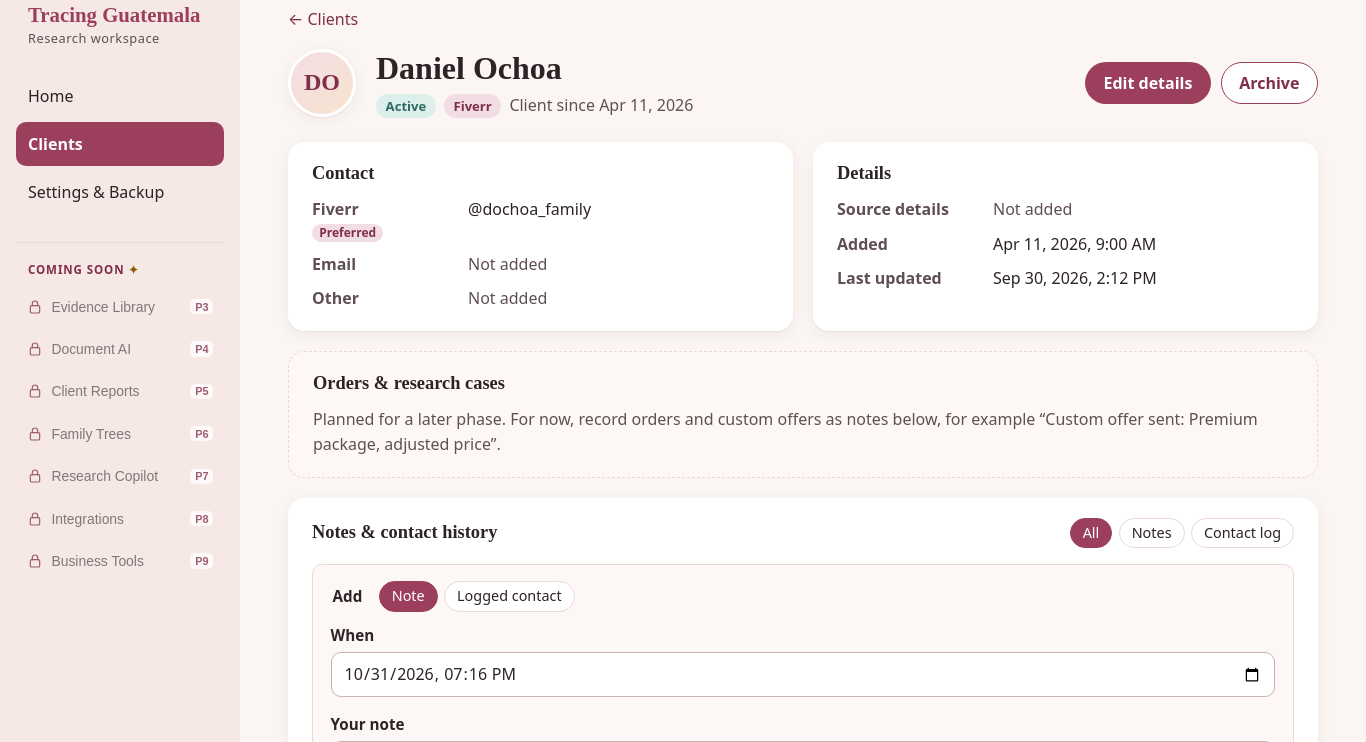
Test case: notes and contact history › shows archive and restore as system entries that cannot be edited, and is read-only while archived
The image size is (1366, 742).
Expected: the heading "Daniel Ochoa" is shown, [376, 50, 562, 86]
Click the button "Archive": {"x": 1269, "y": 83} [1221, 62, 1318, 104]
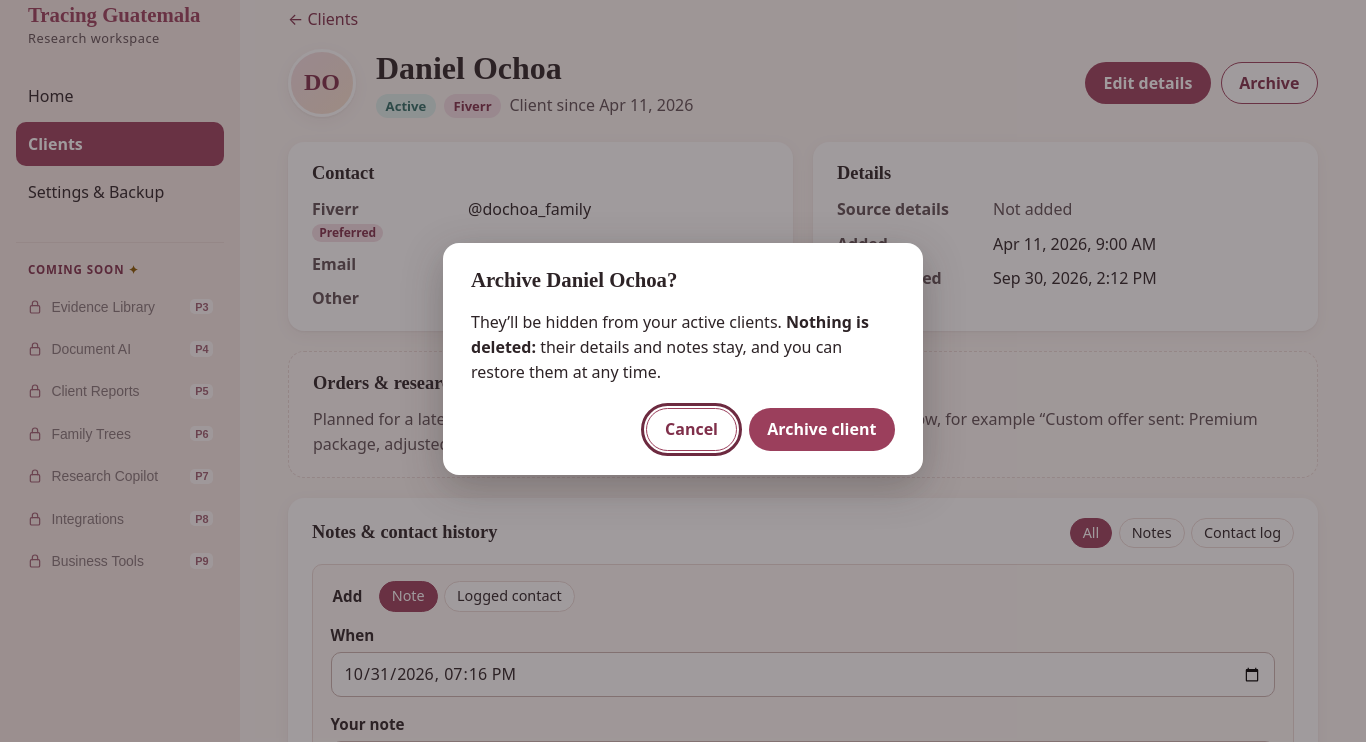
Click the button "Archive client": {"x": 822, "y": 430} [749, 408, 895, 451]
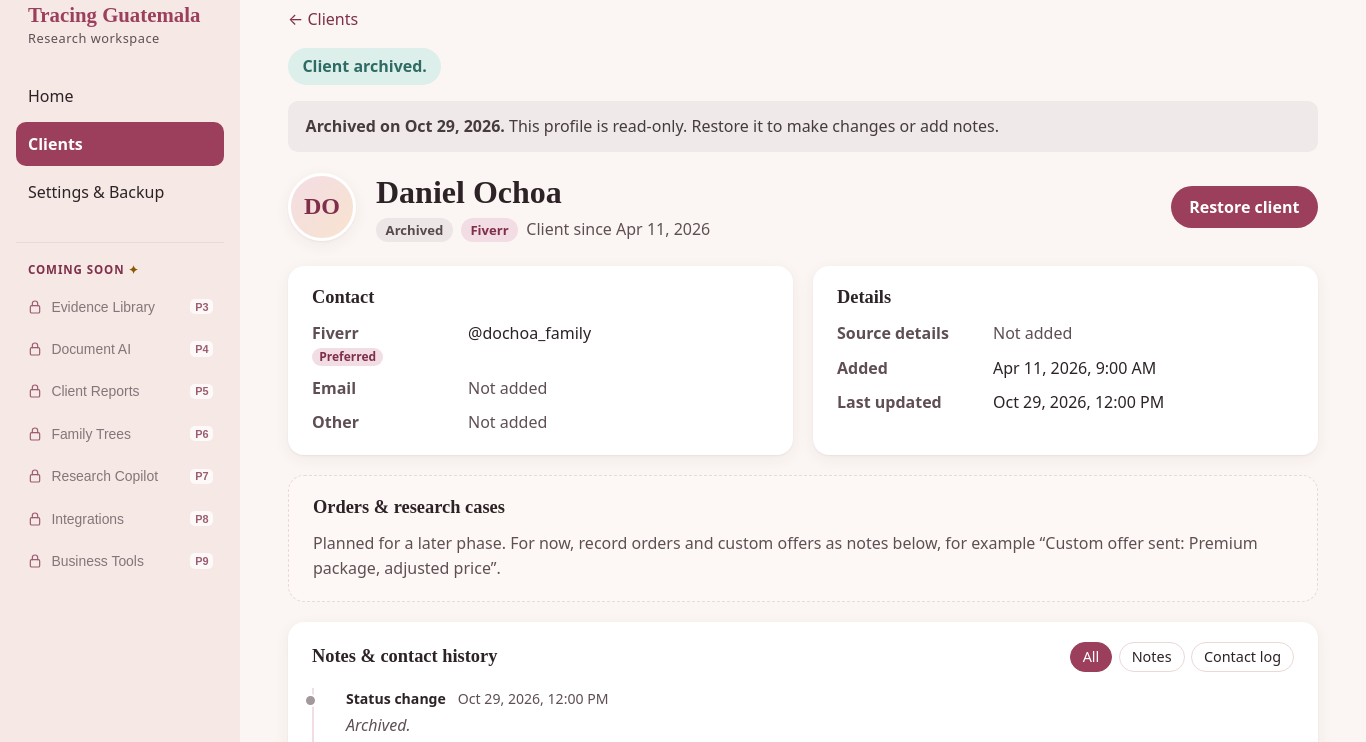
Expected: the text "Archived." is shown, [346, 714, 410, 736]
Expected: the label labelled "Your note" is gone
Expected: the link "Edit" is gone
Click the button "Restore client": {"x": 1244, "y": 207} [1170, 186, 1318, 228]
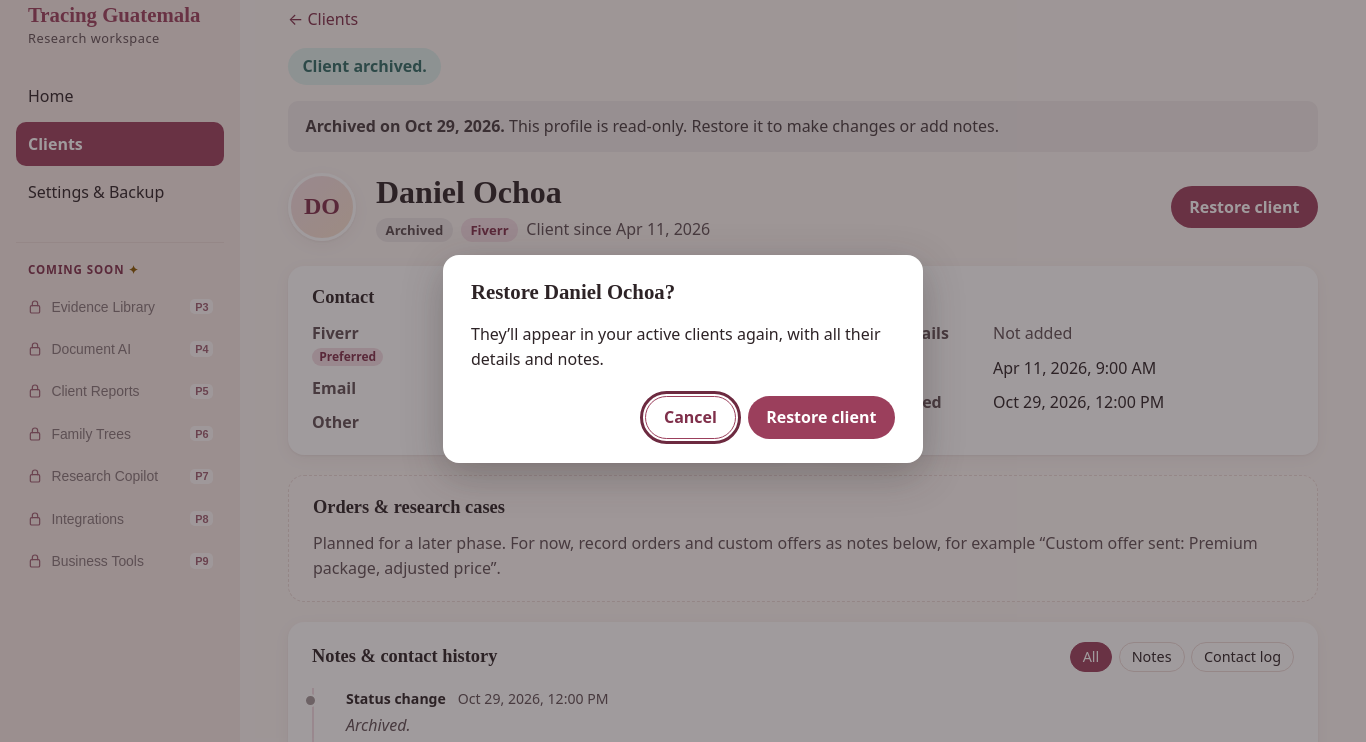
Click the button "Restore client": {"x": 821, "y": 417} [748, 396, 895, 439]
(page scrolled)
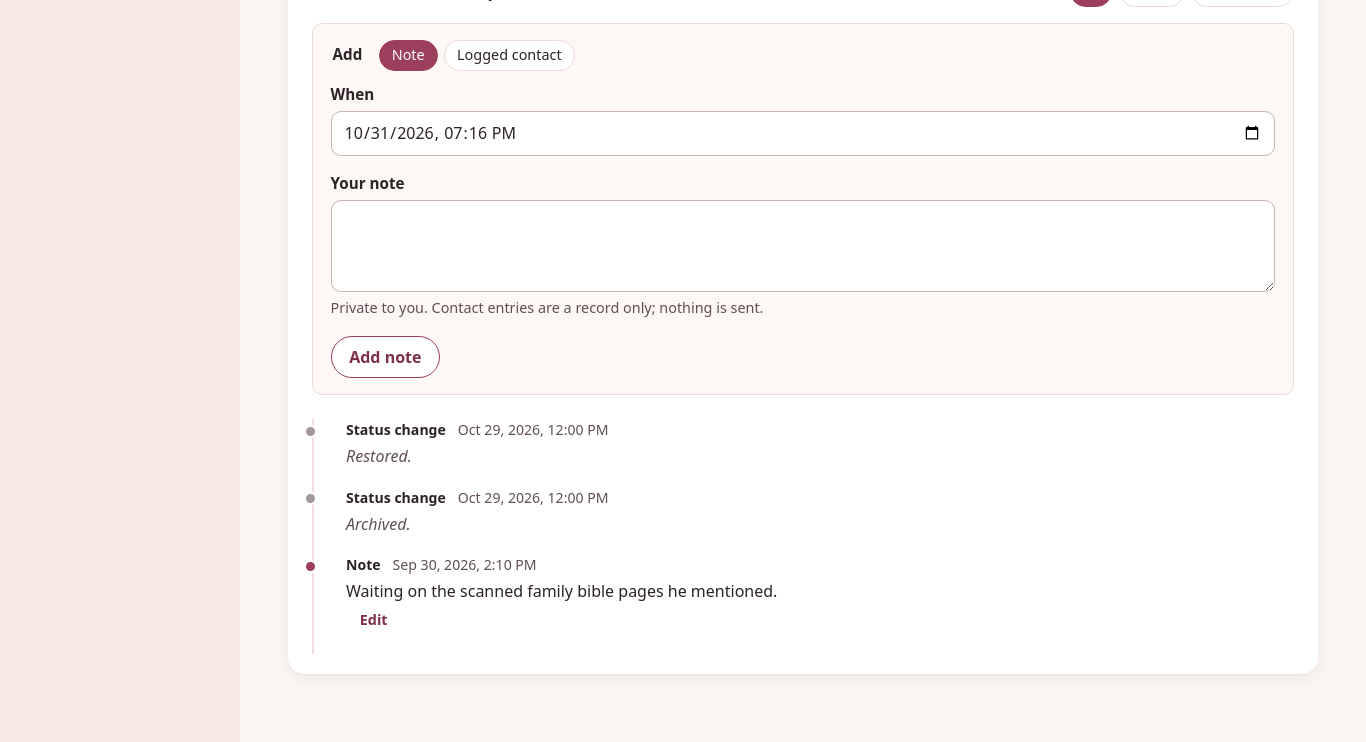
Expected: the number of buttons "Edit" is 1, [346, 604, 401, 636]
Expected: the text "Restored." is shown, [346, 445, 412, 467]
